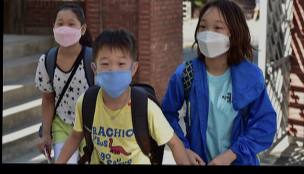with_mask: (94, 53, 133, 98), (196, 16, 230, 59), (52, 16, 81, 48)
